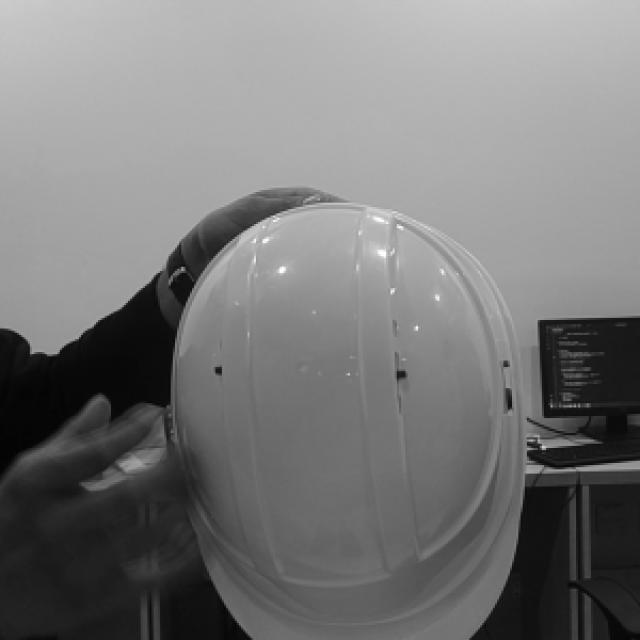safety_helmet: (170, 204, 522, 639)
